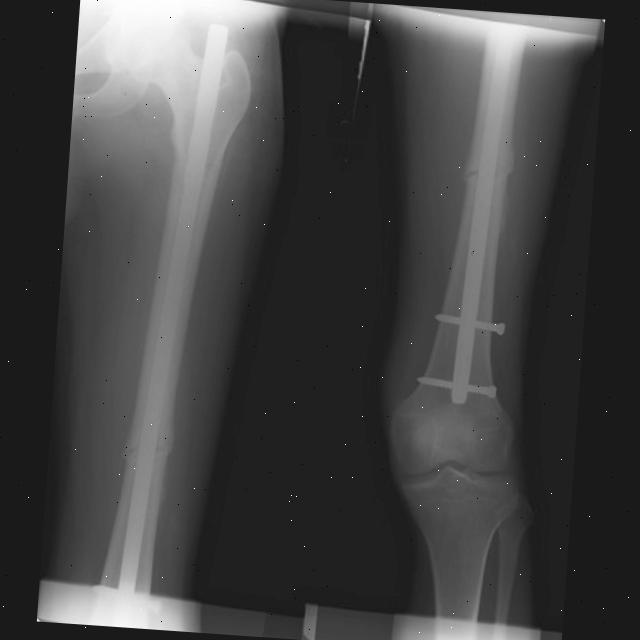Fracture: (456, 149, 516, 187), (118, 424, 173, 463)
